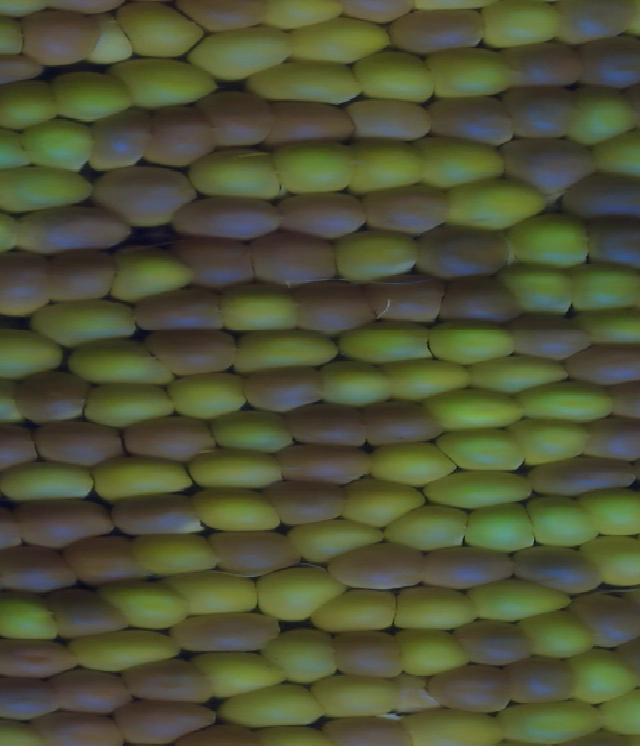fluorescent: (59, 333, 189, 393), (217, 322, 349, 379), (62, 623, 192, 680), (247, 556, 352, 626), (185, 21, 297, 85), (436, 174, 553, 235), (282, 510, 396, 572), (182, 480, 290, 545), (83, 446, 200, 506), (459, 572, 582, 629), (408, 130, 515, 195), (418, 43, 525, 107), (106, 54, 224, 112), (103, 242, 204, 309), (104, 1, 215, 61), (182, 439, 293, 499), (180, 642, 289, 703), (239, 57, 366, 109), (25, 293, 144, 348), (93, 573, 203, 632), (329, 223, 428, 288), (186, 142, 288, 205), (282, 12, 398, 67), (420, 383, 539, 436), (382, 579, 486, 639), (216, 680, 329, 735), (162, 563, 265, 623), (268, 134, 363, 199), (305, 583, 409, 642), (556, 80, 640, 153), (417, 467, 542, 516), (426, 423, 533, 480), (557, 636, 640, 709), (515, 377, 623, 433), (363, 436, 465, 495), (212, 279, 309, 341), (492, 696, 612, 746), (332, 473, 432, 533), (332, 314, 442, 368), (505, 208, 595, 272), (126, 527, 225, 585), (348, 47, 442, 108), (457, 496, 546, 560), (516, 492, 609, 553), (373, 353, 482, 405), (73, 377, 182, 429), (312, 355, 406, 415), (44, 67, 141, 125), (493, 258, 582, 321), (503, 412, 596, 472), (0, 456, 103, 510), (420, 314, 521, 369), (0, 159, 99, 215), (306, 670, 409, 722), (507, 605, 599, 663), (340, 133, 429, 192), (457, 352, 573, 397), (475, 1, 575, 53), (205, 407, 303, 460), (18, 113, 100, 176), (159, 370, 253, 423), (0, 585, 73, 652), (402, 705, 515, 746), (572, 526, 640, 593), (563, 260, 640, 319), (0, 323, 72, 385), (570, 483, 640, 542), (0, 73, 65, 134), (582, 120, 640, 183), (572, 303, 640, 352), (85, 8, 139, 68), (593, 679, 640, 746), (258, 1, 350, 35), (0, 369, 32, 435), (0, 121, 35, 176), (0, 8, 35, 61)
nonfluorescent: (85, 161, 204, 230), (8, 202, 142, 258), (497, 133, 604, 202), (408, 219, 518, 284), (165, 606, 291, 660), (36, 582, 135, 649), (283, 275, 385, 340), (14, 4, 109, 72), (242, 228, 345, 290), (260, 473, 355, 539), (26, 413, 132, 472), (166, 193, 290, 243), (380, 4, 496, 57), (201, 525, 312, 580), (325, 538, 434, 594), (114, 653, 223, 709), (140, 324, 245, 382), (420, 659, 521, 719), (10, 495, 120, 550), (271, 438, 380, 493), (504, 543, 611, 599), (167, 232, 265, 293), (119, 411, 225, 467), (271, 187, 375, 244), (355, 179, 457, 237), (520, 451, 640, 500), (106, 489, 214, 543), (414, 541, 520, 596), (195, 85, 282, 152), (500, 307, 597, 367), (59, 532, 161, 589), (130, 283, 235, 338), (260, 97, 363, 153), (495, 80, 585, 144), (354, 394, 451, 453), (422, 93, 521, 150), (431, 272, 530, 329), (111, 695, 225, 744), (359, 267, 449, 329), (138, 102, 221, 169), (278, 399, 379, 454), (338, 94, 440, 148), (40, 244, 124, 309), (81, 109, 160, 178), (326, 625, 413, 687), (495, 39, 593, 94), (41, 664, 139, 719), (498, 649, 587, 708), (12, 368, 97, 429), (443, 615, 538, 669), (238, 363, 330, 416), (0, 542, 85, 599), (0, 633, 89, 687), (543, 1, 640, 50), (558, 168, 640, 224), (565, 587, 640, 647), (0, 245, 55, 322), (167, 1, 278, 38), (574, 30, 640, 92), (559, 339, 640, 389), (0, 669, 69, 726), (581, 212, 640, 275), (315, 713, 419, 746), (578, 415, 640, 468), (0, 415, 45, 477), (0, 49, 47, 95), (0, 500, 32, 559), (605, 378, 640, 428)
